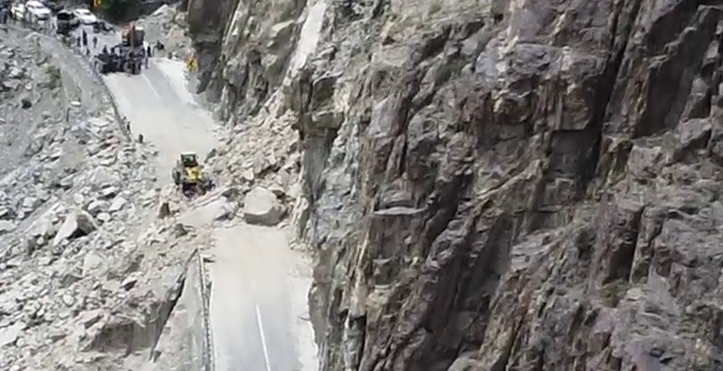unexpected: (135, 136, 420, 268)
